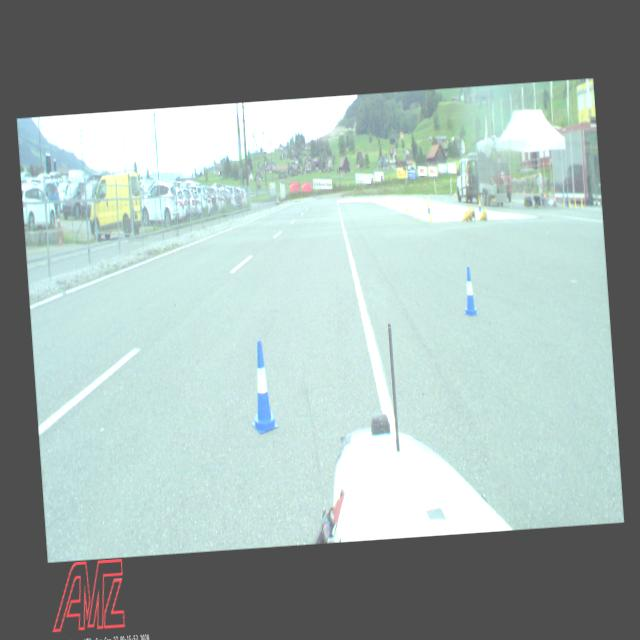blue_cone: (246, 338, 278, 434), (459, 266, 478, 317)
unknown_cone: (477, 209, 484, 221), (426, 195, 430, 214), (461, 210, 468, 220), (476, 194, 481, 206)
yellow_cone: (428, 206, 432, 222), (404, 202, 408, 214), (573, 196, 577, 208), (562, 195, 565, 208), (384, 197, 387, 206), (368, 194, 371, 202), (580, 196, 582, 208), (568, 196, 570, 208), (374, 194, 376, 203)
